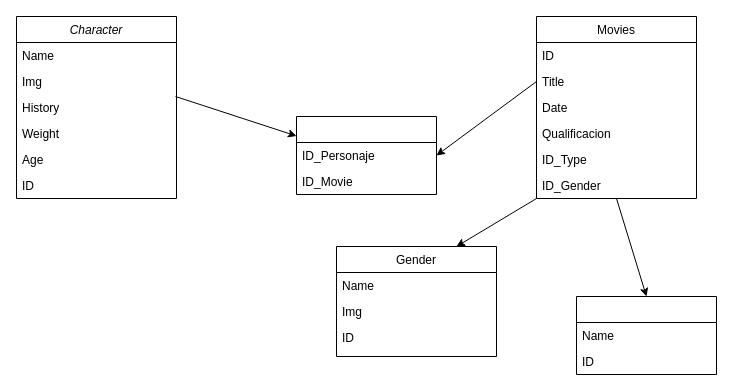
The diagram is 733 pixels wide and 391 high, and some of its shapes have lost their labels. The box of each missing label's shape, as (x1, y1, x2, y2) in pixels:
Character/Movie: (296, 116, 436, 194)
Type: (576, 296, 716, 374)
